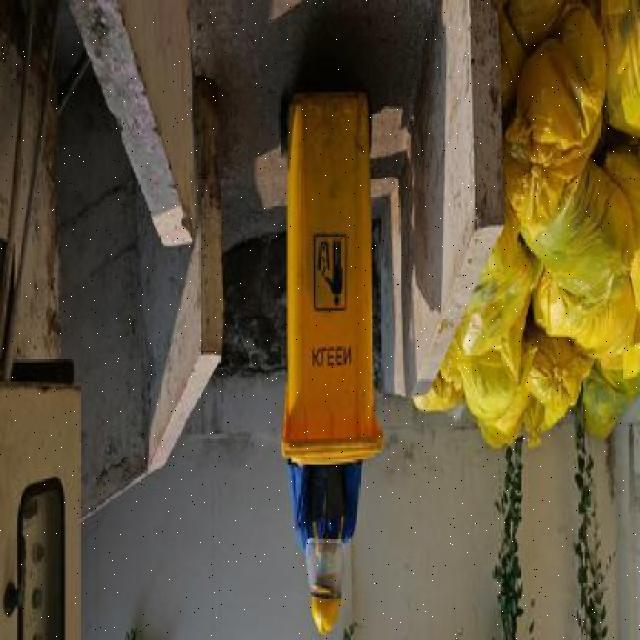garbage container: (274, 74, 391, 476)
